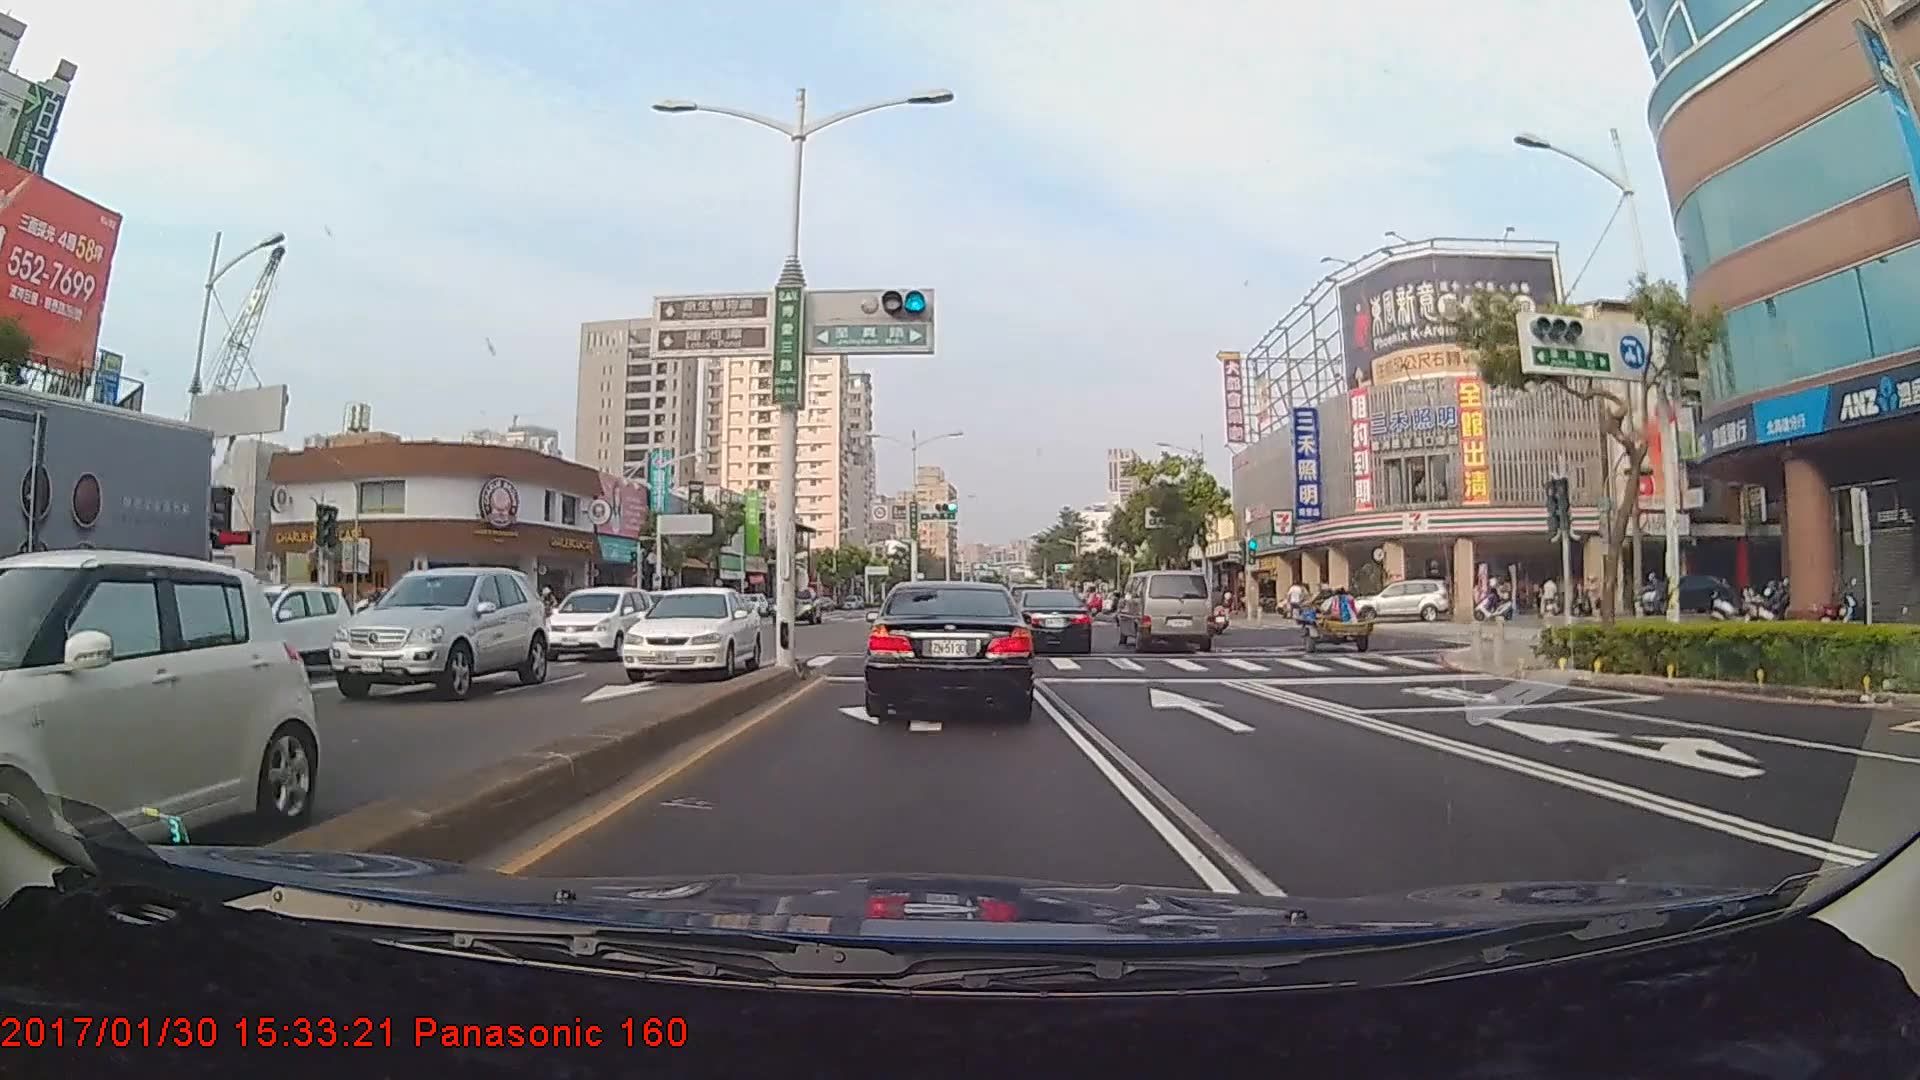rider: (532, 584, 566, 638)
vehicle: (0, 548, 286, 875), (0, 388, 217, 745), (324, 559, 544, 698), (868, 576, 1035, 719), (610, 582, 766, 681), (226, 579, 351, 676), (530, 582, 651, 660), (1119, 568, 1214, 654), (1010, 590, 1093, 656), (1359, 577, 1453, 624)
